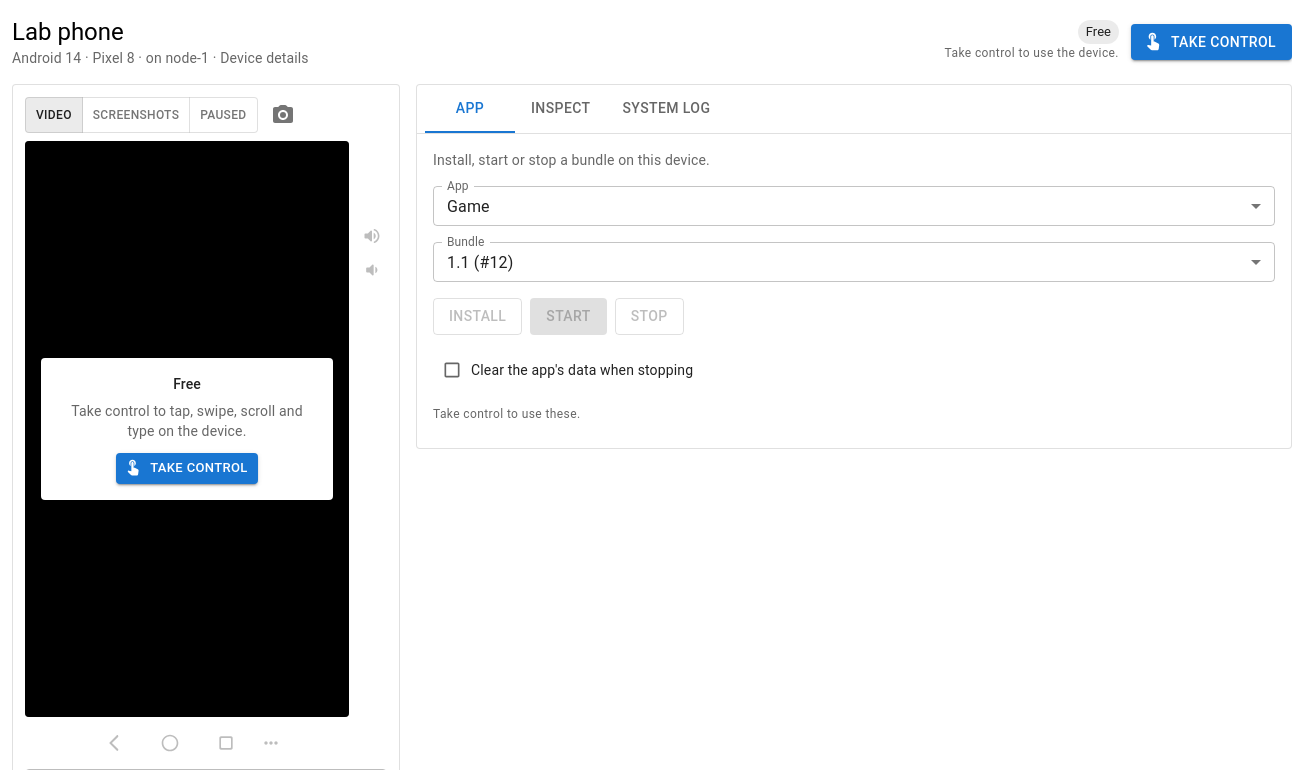
the control page: typing and suggestions › suggests the faster video mode on Android while screenshots show
Check: the heading "Lab phone" is shown, box [12, 18, 124, 46]
Step 1. Click the button "Take control" next to "Take control to use the device." → (1211, 42), box [1131, 24, 1292, 60]
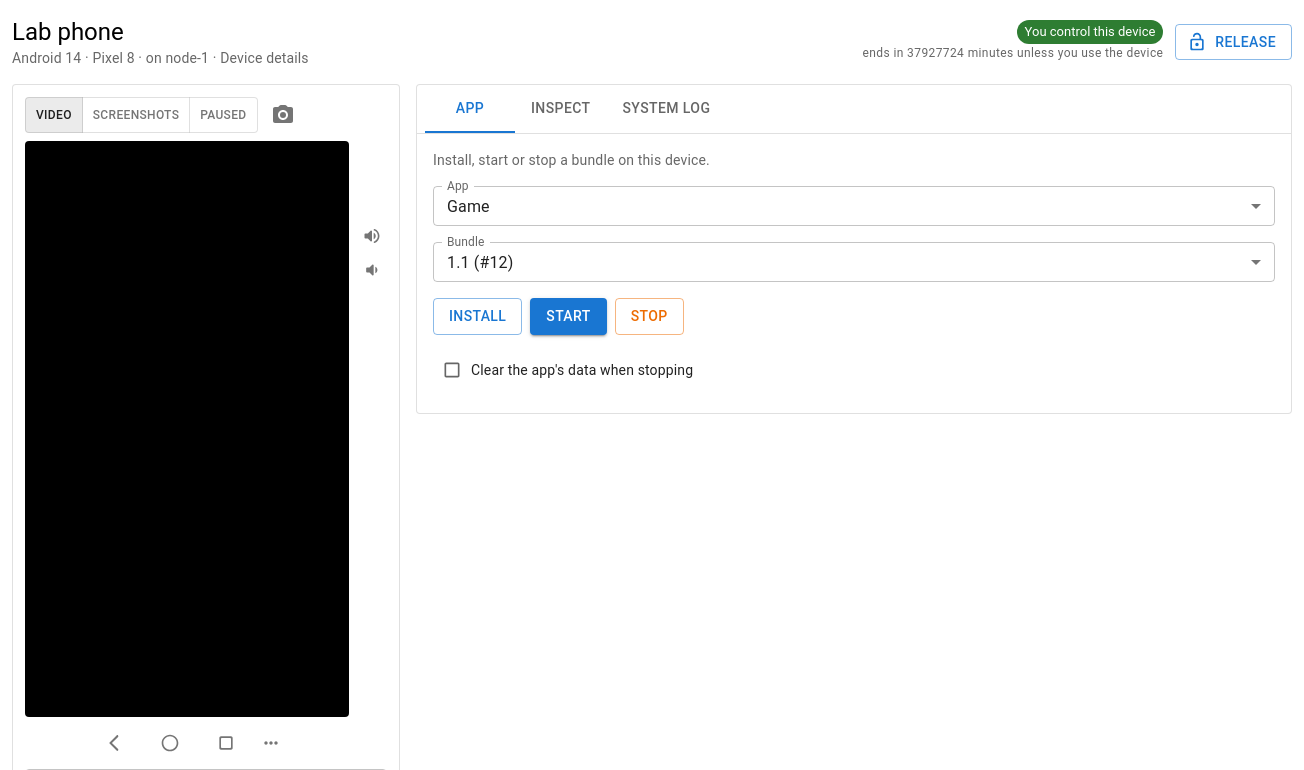
Check: the text "Video mode is faster" is not shown
Check: the text "You control this device" is shown, box [1017, 22, 1163, 42]
Step 2. Click the button "Screenshots" → (136, 115), box [82, 97, 190, 133]
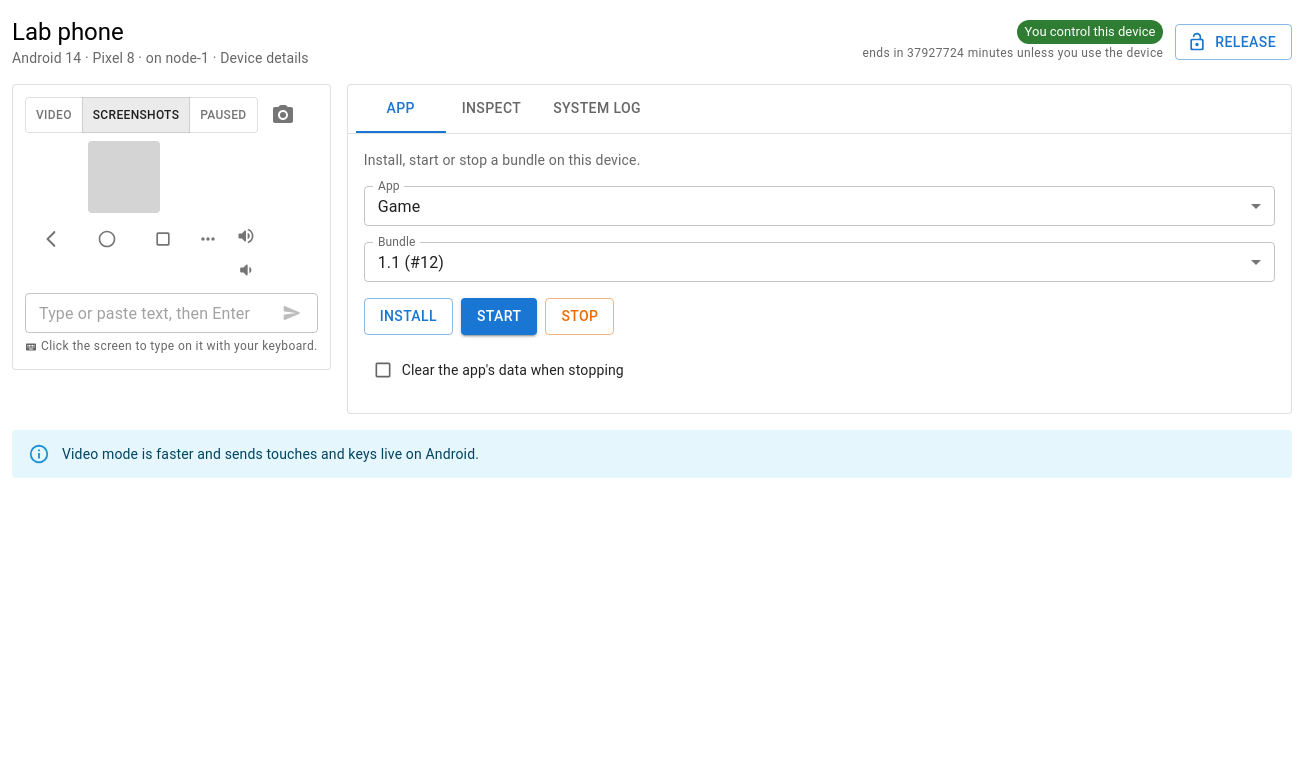
Check: the text "Video mode is faster" is shown, box [62, 446, 479, 462]
